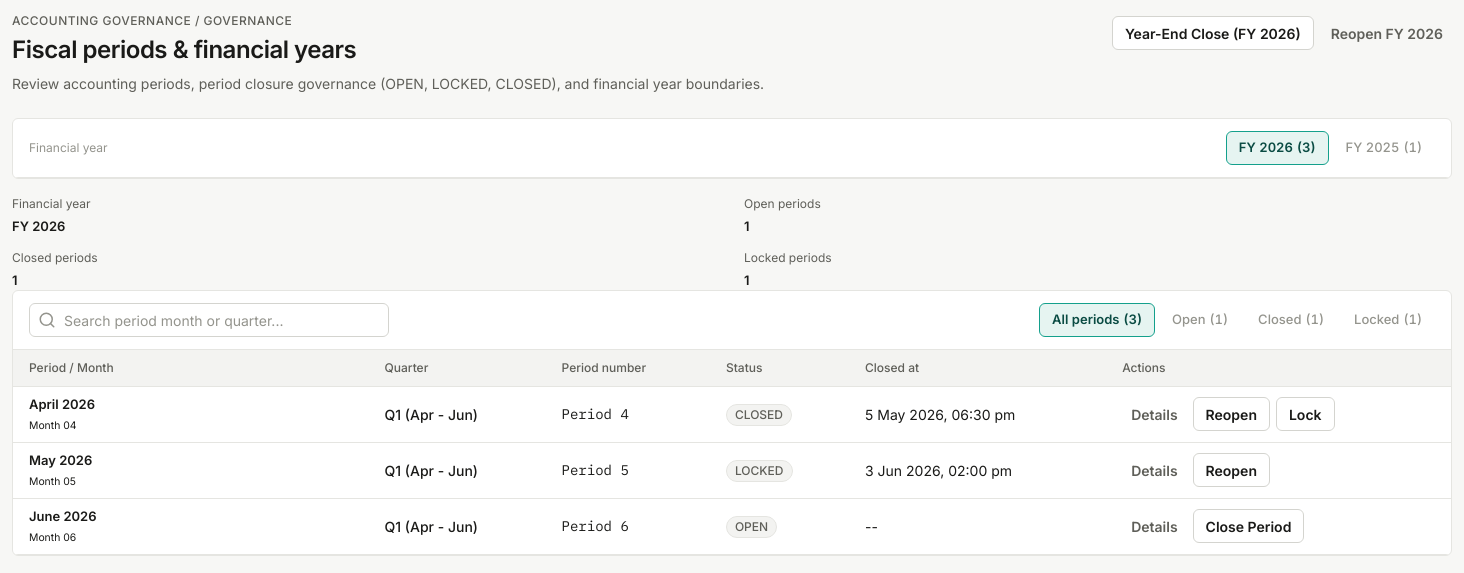
Test case: FiscalPeriodsPage › renders empty state when search matches no periods
Expected: the text "April 2026" is shown, [29,396,95,412]
Type "Nonexistent Month" into the search field with placeholder "Search period month or quarter...".
click(222, 320); type("Nonexistent Month")  # box [64,310,380,331]
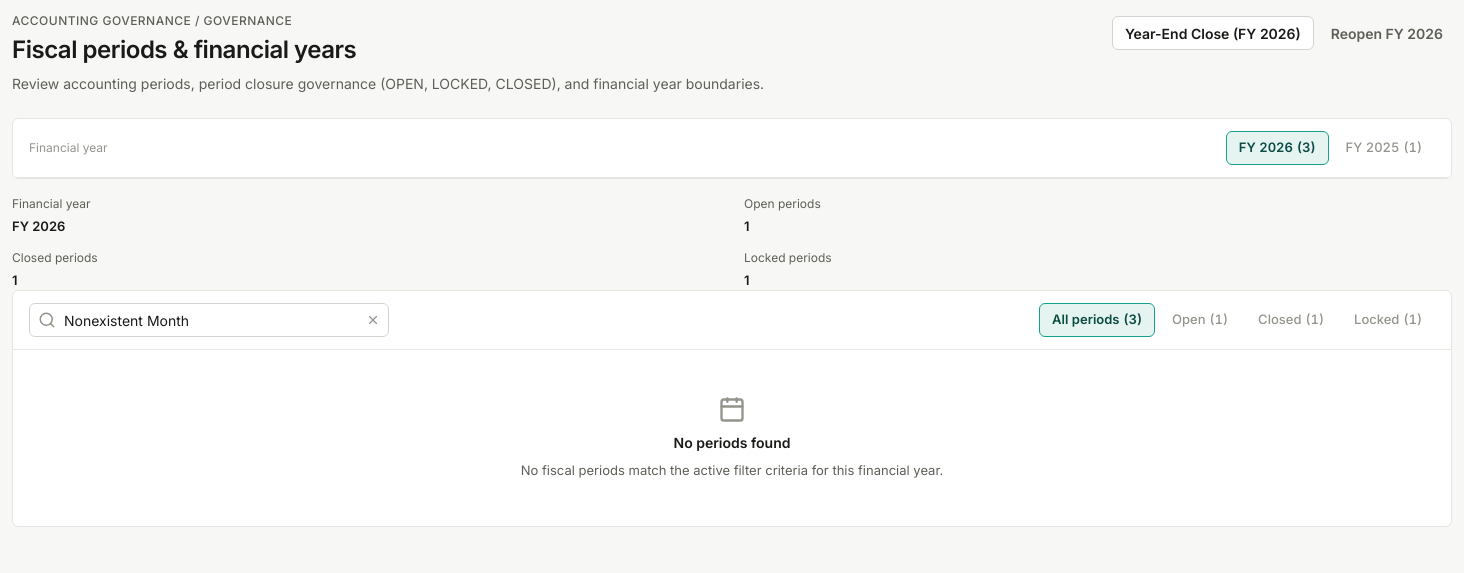
Now the text "No periods found" is shown, box [674,432,790,453]
